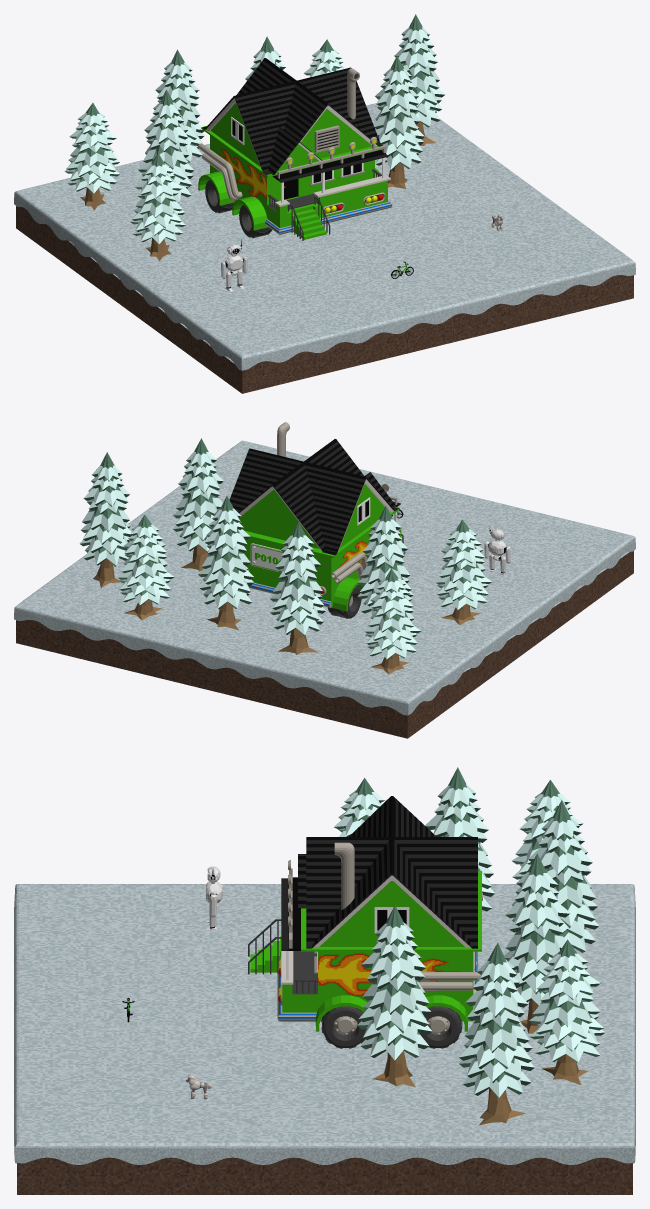
3 renders of one model, top to bottom at view 1: azimuth 30°, elevation 25°; view 2: azimuth 150°, elevation 25°; view 3: azimuth 270°, elevation 25°, orthographic. The views are drawn at different scales.
Parts seen in each view (by area): view 1: Cube.003, Cube.1474, OBJRANDOM_PLATZEEBOT; view 2: Cube.003, Cube.1474, OBJRANDOM_PLATZEEBOT; view 3: Cube.003, Cube.1474, OBJRANDOM_PLATZEEBOT.
Boxes of the visible parts, x1,y1,x2,y2 form: Cube.003: (14, 14, 635, 393); Cube.1474: (198, 58, 392, 240); OBJRANDOM_PLATZEEBOT: (221, 239, 247, 291); Cube.003: (14, 438, 635, 738); Cube.1474: (229, 422, 405, 618); OBJRANDOM_PLATZEEBOT: (484, 524, 510, 575); Cube.003: (14, 767, 635, 1194); Cube.1474: (248, 796, 482, 1048); OBJRANDOM_PLATZEEBOT: (204, 866, 222, 930).
Bounding box in the file's own units: 4040 × 1814 × 4040.
34 materials, 4 textured.
